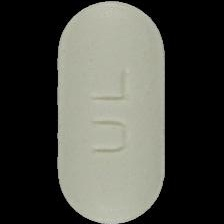61786-956: (0, 0, 224, 224)
